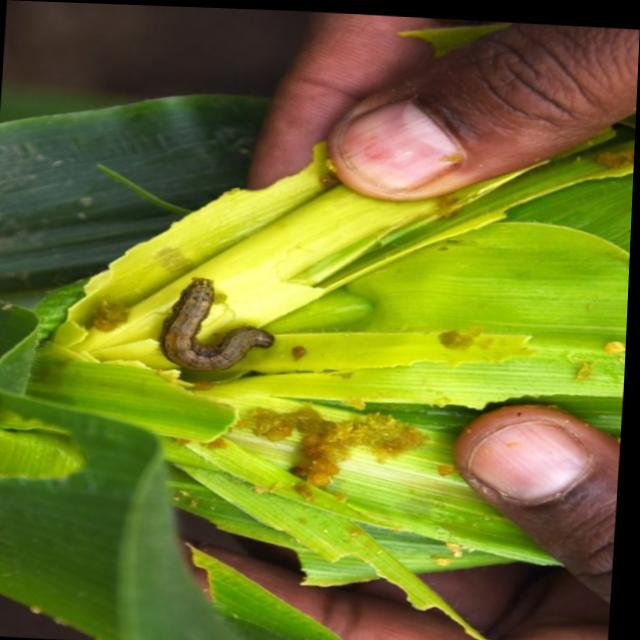Fall-Armyworm: (156, 268, 287, 383)
